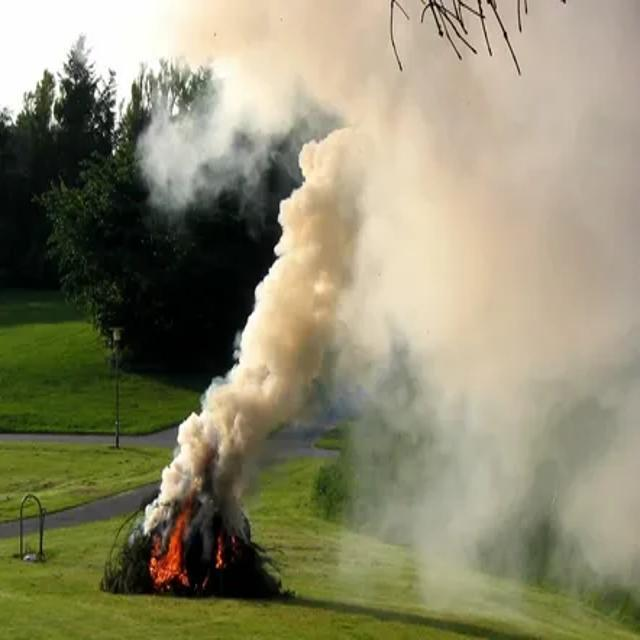Smoke: (174, 2, 640, 525)
